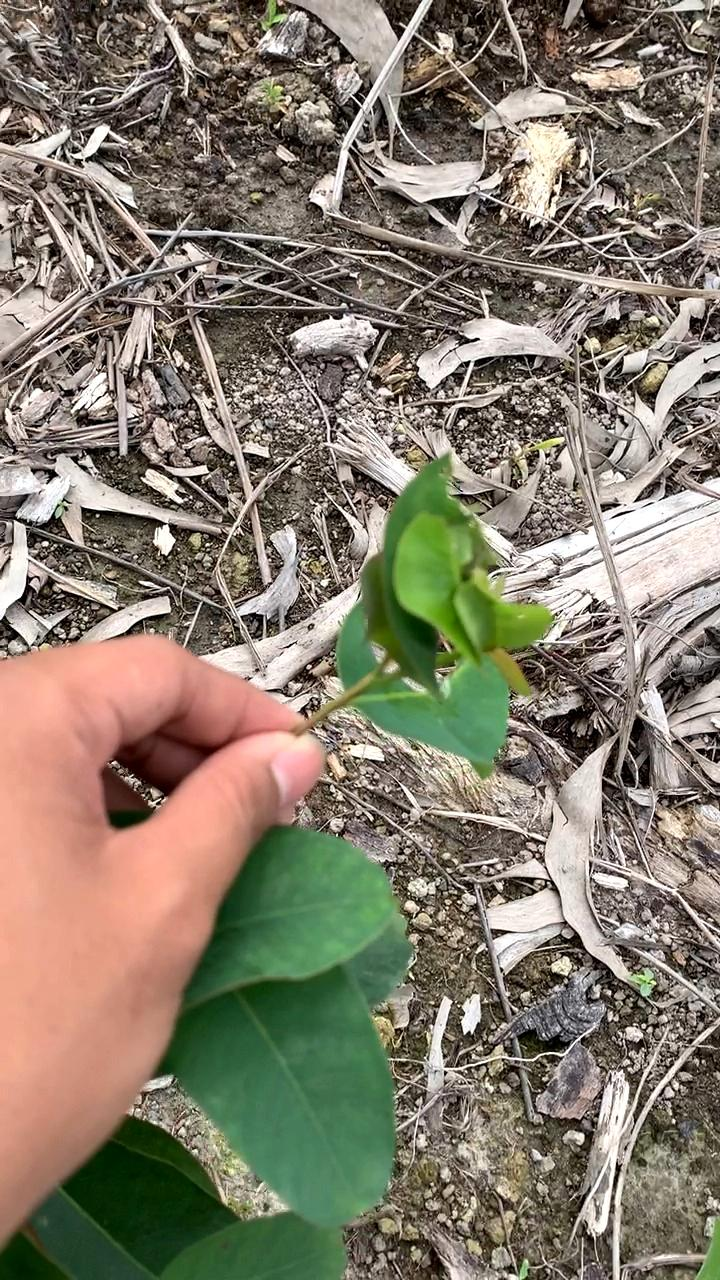Leaf Roller - Leaf: (346, 465, 567, 775)
